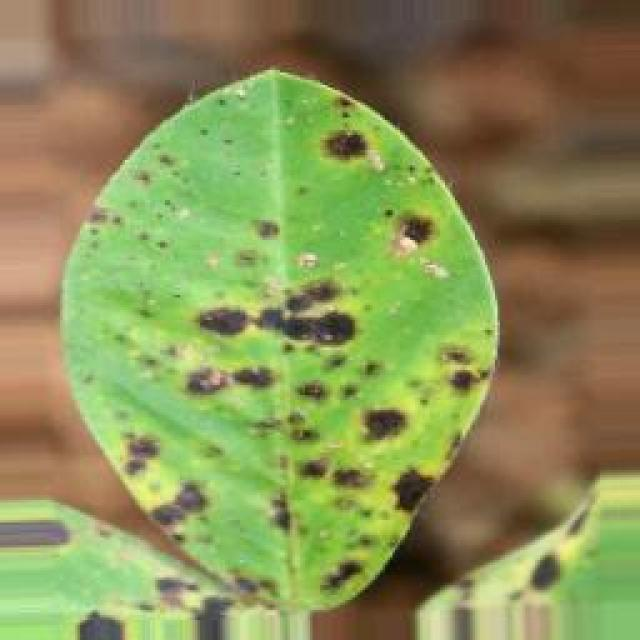Yellowish: (84, 68, 437, 608)
